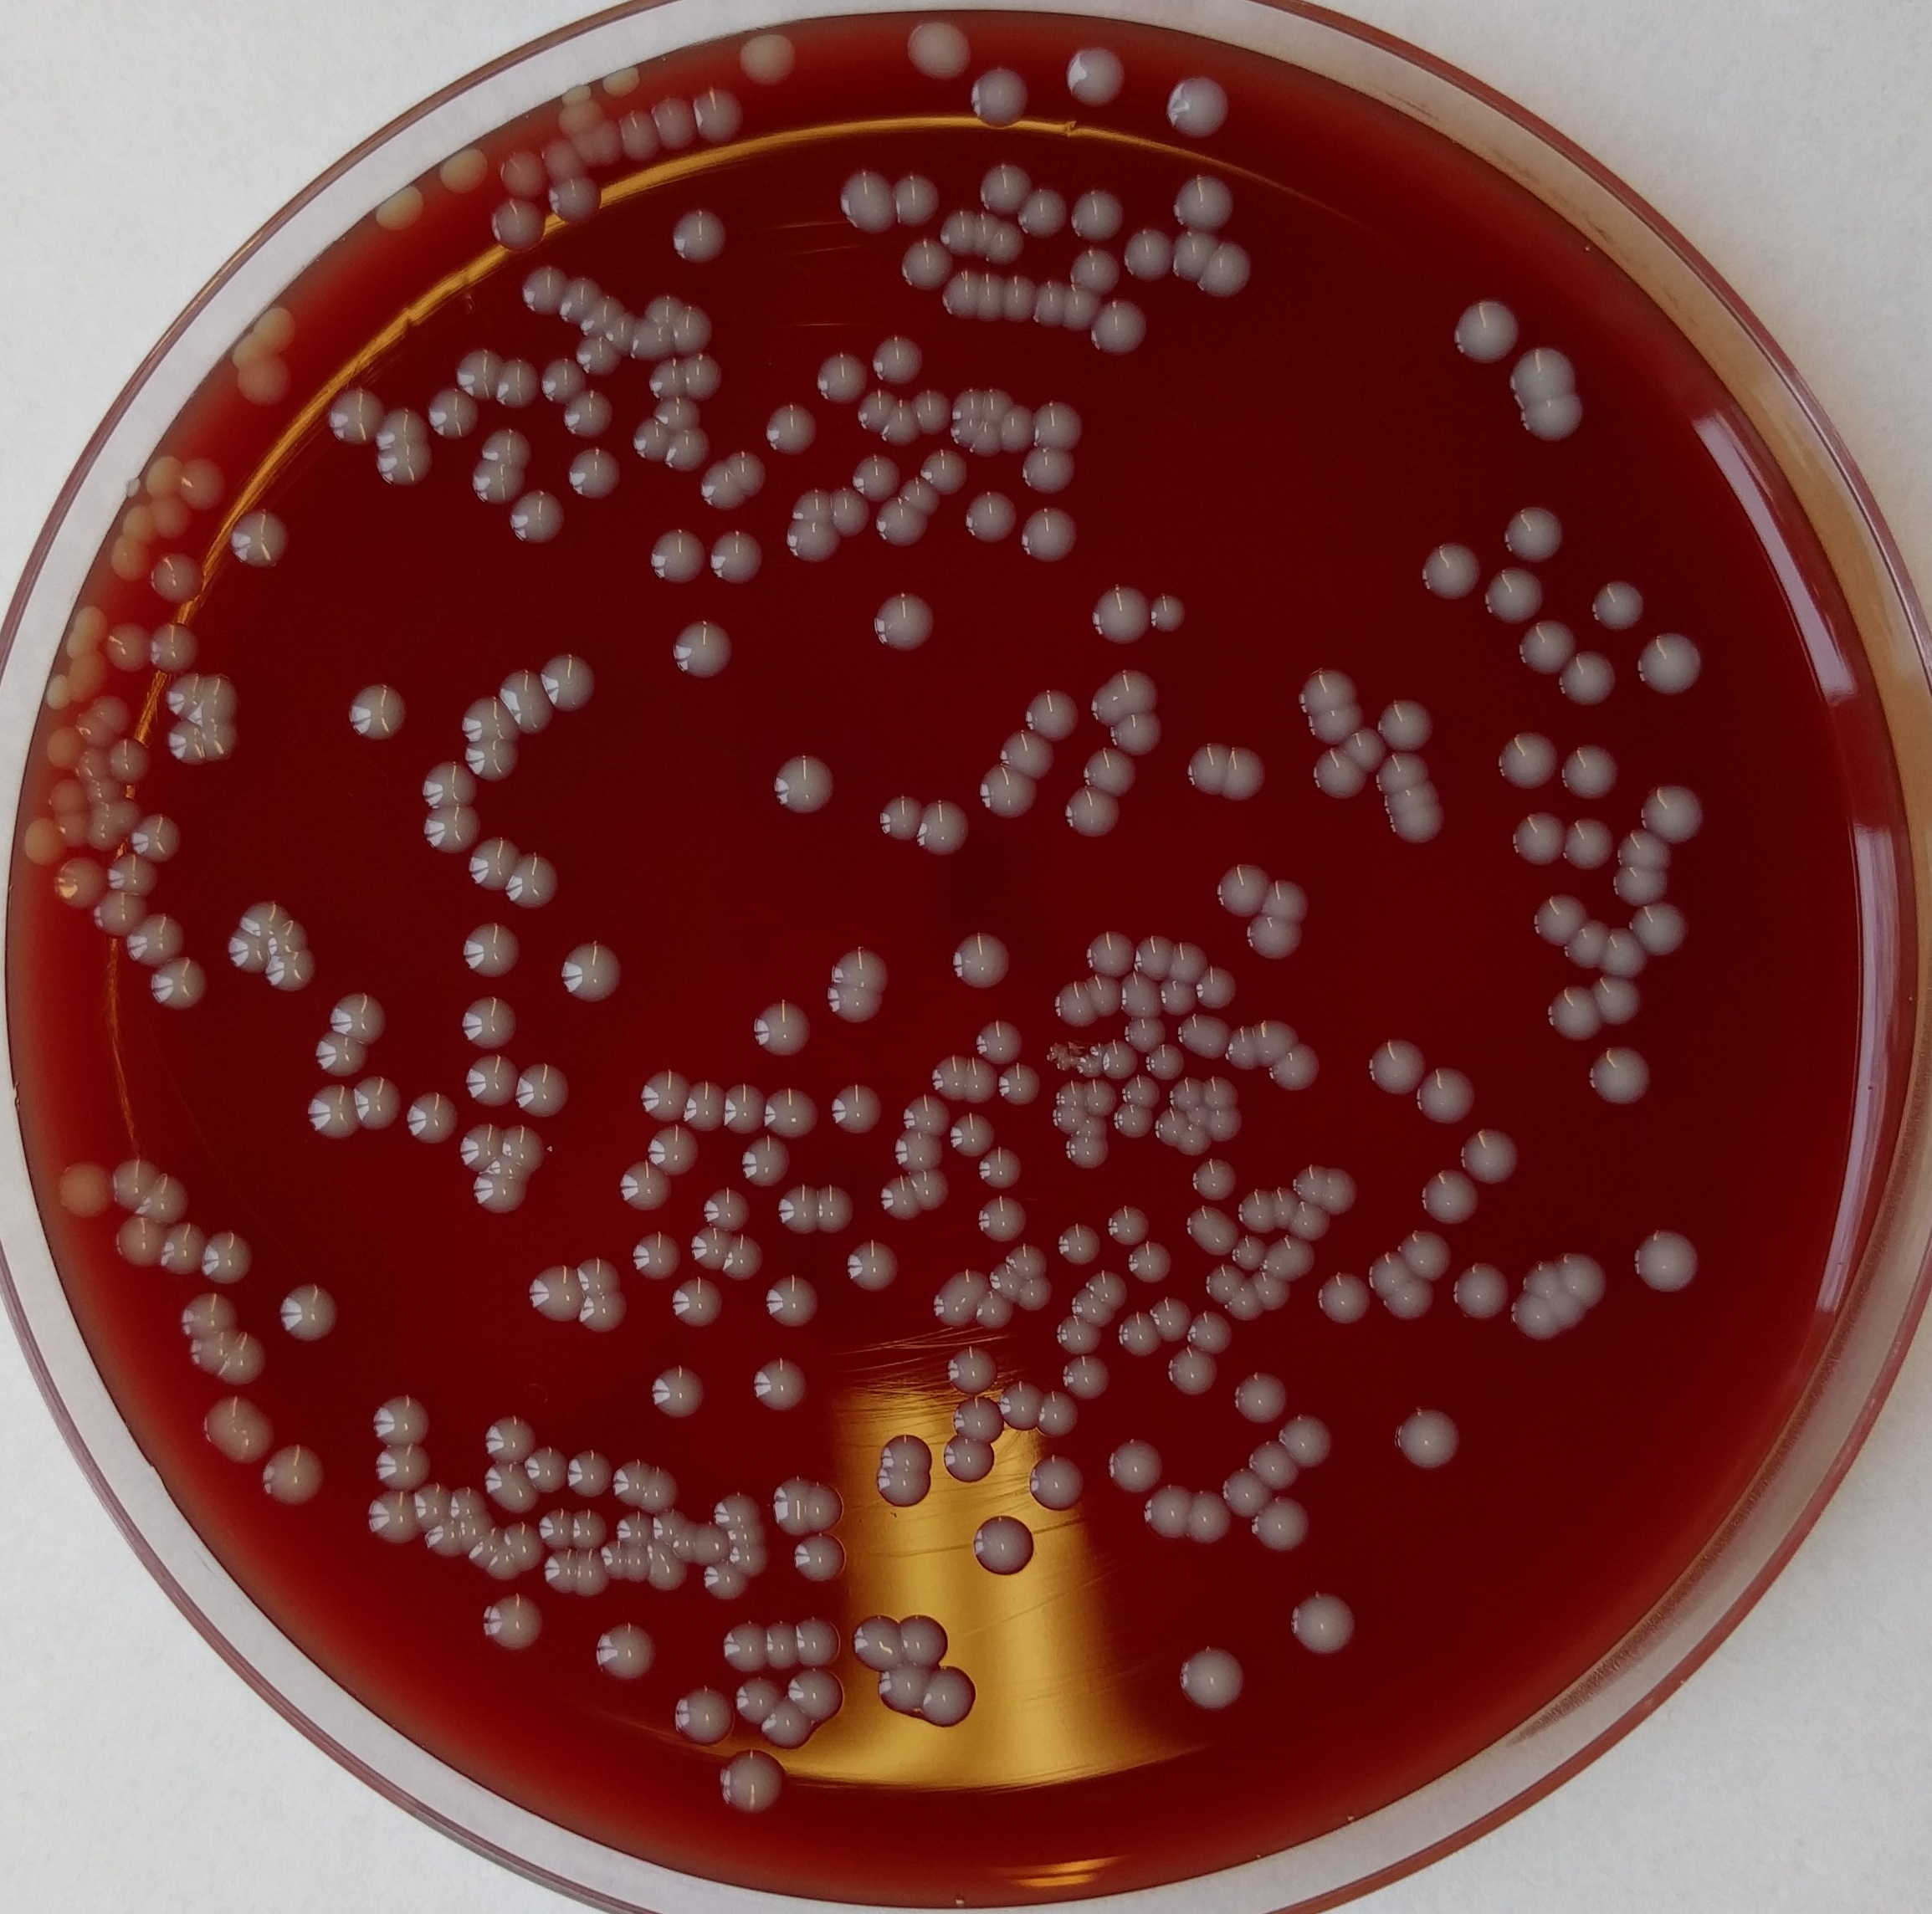sp22: (1057, 40, 1141, 123), (1157, 67, 1238, 145), (1627, 1225, 1708, 1304), (715, 1739, 794, 1816), (901, 12, 977, 89), (763, 748, 845, 819), (966, 1511, 1041, 1586), (1173, 1641, 1247, 1718), (957, 53, 1027, 133), (1583, 1038, 1657, 1113), (251, 1437, 328, 1509), (831, 167, 906, 238), (1085, 578, 1155, 656), (1632, 627, 1709, 698), (198, 1393, 277, 1462), (1497, 342, 1581, 405), (1448, 293, 1522, 365), (1539, 980, 1616, 1048), (863, 592, 943, 657), (668, 1684, 740, 1756), (1392, 1406, 1466, 1476), (1287, 1586, 1359, 1656), (1380, 782, 1453, 850), (224, 507, 298, 575), (1413, 540, 1490, 605), (272, 1280, 351, 1343), (1501, 501, 1569, 573), (1636, 778, 1708, 847), (1189, 237, 1255, 310), (1478, 559, 1546, 629), (1415, 1062, 1485, 1131), (593, 1618, 661, 1688), (536, 647, 605, 717), (1210, 859, 1282, 925), (347, 675, 414, 747), (1161, 174, 1238, 235), (1559, 740, 1625, 808), (1364, 1032, 1429, 1102), (1457, 1122, 1527, 1187), (1418, 1162, 1488, 1227), (521, 1262, 586, 1332), (749, 1357, 820, 1420), (761, 398, 835, 459), (1494, 729, 1567, 790), (668, 202, 736, 266), (707, 524, 771, 592), (563, 442, 631, 507), (1024, 1451, 1094, 1514), (1555, 643, 1620, 710), (559, 939, 626, 1004), (298, 1083, 366, 1146), (668, 617, 736, 680), (1585, 573, 1655, 634), (1247, 1493, 1317, 1555), (459, 920, 531, 980), (919, 1665, 985, 1728), (761, 1271, 827, 1334), (975, 158, 1043, 219), (645, 524, 714, 585), (1080, 743, 1150, 803), (1068, 184, 1131, 249), (1022, 436, 1087, 500), (847, 1613, 912, 1676), (948, 925, 1012, 990), (917, 796, 980, 861), (749, 996, 810, 1062), (1062, 778, 1129, 840), (978, 759, 1040, 826), (1515, 617, 1583, 677), (366, 1388, 438, 1444), (1374, 694, 1438, 757), (514, 1055, 575, 1120), (508, 487, 575, 547), (1520, 387, 1588, 445), (484, 1593, 552, 1651), (124, 911, 193, 969), (324, 384, 382, 452), (1269, 1406, 1332, 1467), (931, 1265, 992, 1329), (53, 1157, 114, 1220), (147, 952, 210, 1013), (717, 1618, 777, 1683), (647, 1362, 714, 1420), (999, 724, 1066, 782), (1019, 498, 1075, 566), (324, 987, 393, 1043), (733, 33, 808, 84), (1513, 806, 1574, 868), (1627, 897, 1690, 957), (787, 1667, 850, 1726), (615, 1155, 678, 1215), (1164, 221, 1220, 287), (486, 196, 552, 252), (403, 1085, 459, 1152), (456, 992, 522, 1048), (1087, 298, 1148, 358), (887, 167, 945, 230), (810, 349, 873, 407), (666, 1274, 729, 1332), (826, 1078, 889, 1136), (1103, 703, 1169, 757), (459, 729, 526, 783), (1238, 908, 1306, 961), (1013, 182, 1073, 242), (899, 235, 959, 294), (200, 1229, 263, 1285), (379, 1439, 444, 1493), (421, 755, 486, 810), (759, 1083, 826, 1136), (146, 554, 212, 606), (1029, 393, 1089, 450), (959, 486, 1017, 545), (214, 1330, 273, 1388), (459, 833, 519, 890), (503, 848, 561, 908), (694, 459, 756, 515), (559, 387, 621, 443), (1531, 887, 1587, 948), (1555, 1248, 1611, 1309), (1311, 1269, 1373, 1325), (114, 1213, 175, 1269), (649, 91, 703, 154), (1057, 1351, 1120, 1406), (736, 1127, 791, 1190), (419, 801, 482, 855), (693, 84, 745, 149), (1110, 1434, 1162, 1499), (89, 887, 154, 939), (938, 266, 994, 326), (1608, 855, 1667, 911), (1268, 1038, 1327, 1094), (1180, 1199, 1239, 1255), (882, 1660, 938, 1719), (479, 1462, 538, 1518), (496, 671, 552, 731), (177, 457, 233, 517), (1453, 1257, 1508, 1318), (1120, 221, 1173, 284), (782, 517, 845, 570), (1292, 664, 1362, 712), (1175, 1013, 1238, 1066), (572, 1283, 635, 1336), (47, 857, 110, 910), (666, 293, 717, 358), (1306, 748, 1371, 799), (179, 1292, 244, 1343), (845, 1237, 903, 1294), (365, 1488, 421, 1546), (1564, 813, 1618, 873), (1592, 971, 1651, 1025), (1396, 1229, 1455, 1283), (1103, 1197, 1162, 1251), (789, 1532, 850, 1584), (999, 1376, 1052, 1437), (368, 184, 430, 237), (868, 330, 924, 386), (1031, 1385, 1087, 1441), (468, 454, 524, 510), (1618, 822, 1676, 876), (1080, 925, 1138, 980), (1364, 1244, 1418, 1302), (1232, 1372, 1290, 1427), (496, 1122, 554, 1176), (465, 1052, 519, 1109), (1026, 682, 1080, 740), (628, 414, 680, 473), (945, 1344, 1005, 1397), (310, 1025, 370, 1078), (877, 491, 927, 552), (896, 1092, 959, 1141), (235, 359, 298, 408), (1101, 668, 1166, 715), (368, 405, 433, 452), (899, 1614, 955, 1669), (796, 1616, 850, 1672), (947, 1106, 1001, 1162), (1222, 745, 1275, 803), (570, 1251, 628, 1304), (437, 147, 494, 200), (726, 1074, 771, 1141), (1383, 1274, 1443, 1325), (479, 1418, 538, 1469), (521, 261, 570, 323), (456, 1115, 505, 1176), (822, 978, 884, 1027), (543, 177, 607, 224), (875, 1465, 938, 1513), (496, 149, 550, 203), (917, 442, 971, 496), (1178, 740, 1232, 794), (1115, 971, 1169, 1025), (771, 1180, 826, 1234), (629, 1229, 684, 1283), (1143, 1485, 1196, 1541), (1508, 1288, 1560, 1344), (135, 1169, 191, 1222), (107, 1150, 160, 1206), (877, 787, 929, 843), (426, 389, 482, 442), (1187, 1486, 1238, 1544), (1166, 1350, 1224, 1400), (147, 622, 205, 673), (107, 531, 158, 589), (128, 812, 188, 861), (454, 347, 503, 407), (458, 694, 519, 741), (1373, 748, 1436, 794), (540, 131, 593, 186), (677, 351, 729, 405), (761, 1695, 813, 1749), (352, 1074, 405, 1129), (638, 1066, 691, 1120), (649, 1122, 703, 1174), (626, 312, 677, 368), (952, 1397, 1003, 1453), (565, 1448, 615, 1504), (614, 105, 663, 163), (1602, 924, 1651, 982), (757, 1618, 806, 1676), (731, 1679, 789, 1728), (158, 1218, 207, 1276), (184, 1327, 244, 1374), (891, 1129, 950, 1176), (233, 892, 293, 939), (1306, 701, 1367, 747), (1061, 1129, 1122, 1174), (833, 945, 894, 990), (852, 450, 905, 503), (724, 445, 777, 498), (1315, 1162, 1367, 1215), (1185, 1155, 1248, 1199), (1222, 1465, 1275, 1518), (1187, 1308, 1239, 1360), (975, 1141, 1027, 1194), (631, 1465, 684, 1518), (971, 1013, 1024, 1066), (1248, 1439, 1303, 1490), (1252, 1013, 1301, 1069), (1259, 1234, 1315, 1283), (700, 1185, 756, 1234), (519, 1448, 575, 1497), (1262, 876, 1320, 924), (975, 1195, 1033, 1243), (682, 1078, 729, 1136), (375, 442, 433, 489), (572, 330, 626, 379), (905, 386, 959, 435), (1152, 1290, 1201, 1344), (943, 1435, 999, 1483), (533, 1506, 580, 1562), (496, 356, 543, 412), (470, 1171, 535, 1211), (1054, 1215, 1105, 1265), (607, 1462, 657, 1513), (1559, 915, 1608, 968), (689, 1223, 738, 1276), (405, 1481, 458, 1530), (19, 820, 67, 875), (877, 1434, 933, 1479), (565, 1509, 615, 1558), (444, 1481, 494, 1530), (42, 726, 91, 776), (102, 624, 153, 673), (1071, 242, 1119, 294), (643, 352, 691, 405), (1336, 724, 1389, 771), (903, 1167, 955, 1215), (480, 428, 533, 475), (1124, 1237, 1178, 1283), (109, 855, 163, 901), (163, 675, 217, 720), (558, 266, 598, 328), (1047, 1034, 1105, 1076), (536, 356, 584, 407), (994, 400, 1041, 450), (1522, 1253, 1573, 1301), (70, 743, 121, 790), (959, 414, 1012, 459), (252, 305, 298, 358), (826, 486, 870, 540), (663, 424, 717, 468), (1110, 1311, 1164, 1355), (936, 203, 978, 259), (1031, 277, 1073, 333), (947, 386, 989, 442), (652, 389, 701, 436), (1161, 939, 1208, 989), (805, 1481, 854, 1528), (994, 1057, 1041, 1106), (224, 927, 273, 975), (147, 493, 195, 542), (1224, 1022, 1269, 1073), (1168, 1076, 1218, 1122), (1094, 1036, 1145, 1081), (700, 1558, 750, 1604), (927, 1052, 971, 1104), (165, 719, 209, 771), (84, 694, 144, 733), (770, 1478, 812, 1532), (268, 952, 323, 994), (1052, 1315, 1108, 1355), (579, 287, 624, 337), (1145, 589, 1190, 638), (984, 1255, 1029, 1304), (501, 1521, 547, 1570), (785, 482, 836, 526), (815, 1183, 859, 1234), (142, 449, 186, 500), (1236, 1187, 1278, 1239), (230, 335, 282, 377), (554, 96, 614, 133), (1054, 983, 1101, 1029), (67, 654, 112, 701), (1194, 961, 1238, 1010), (1250, 1262, 1294, 1311), (884, 401, 924, 454), (1290, 1197, 1338, 1241), (1143, 1041, 1190, 1085), (1113, 1097, 1161, 1141), (1201, 1257, 1245, 1304), (1085, 1267, 1133, 1311), (1008, 1244, 1052, 1292), (721, 1232, 764, 1280), (880, 1174, 924, 1222), (105, 736, 149, 783), (985, 217, 1027, 266), (973, 270, 1010, 326), (572, 1546, 614, 1595), (263, 920, 312, 962), (1001, 270, 1040, 323), (70, 708, 123, 747), (710, 1493, 764, 1530), (1133, 936, 1175, 983), (861, 386, 901, 435), (898, 477, 947, 517), (594, 65, 652, 98), (1082, 685, 1126, 729), (1071, 1285, 1115, 1329), (1155, 1104, 1197, 1150), (1061, 282, 1099, 331), (645, 1542, 684, 1591), (487, 1153, 538, 1190), (542, 1551, 584, 1595), (93, 799, 146, 834), (119, 503, 158, 550), (962, 1055, 999, 1104), (423, 1518, 463, 1562), (1290, 1160, 1329, 1206), (1083, 971, 1122, 1017), (726, 1541, 771, 1579), (973, 1288, 1019, 1327), (1124, 1017, 1171, 1053), (619, 1539, 656, 1586), (600, 1537, 635, 1586), (614, 1509, 659, 1546), (980, 379, 1015, 426), (1171, 1124, 1218, 1159), (603, 308, 636, 358), (1203, 1069, 1243, 1109), (53, 806, 93, 847), (1122, 1074, 1164, 1113), (687, 1525, 729, 1563), (1225, 1276, 1262, 1320), (642, 289, 680, 330), (1015, 1272, 1055, 1311), (49, 778, 89, 817), (74, 603, 112, 643), (1268, 1180, 1299, 1229), (1208, 1102, 1245, 1145), (1078, 1076, 1120, 1113), (1048, 1102, 1096, 1134), (721, 1521, 768, 1553), (1231, 1229, 1266, 1271), (42, 673, 77, 715), (968, 205, 996, 256), (1159, 976, 1197, 1013), (650, 1507, 689, 1544), (82, 776, 128, 806), (556, 75, 596, 107), (486, 1546, 521, 1581), (67, 633, 105, 664), (1076, 1109, 1117, 1139), (1185, 1104, 1215, 1138), (89, 824, 123, 850), (1054, 1080, 1087, 1104)
